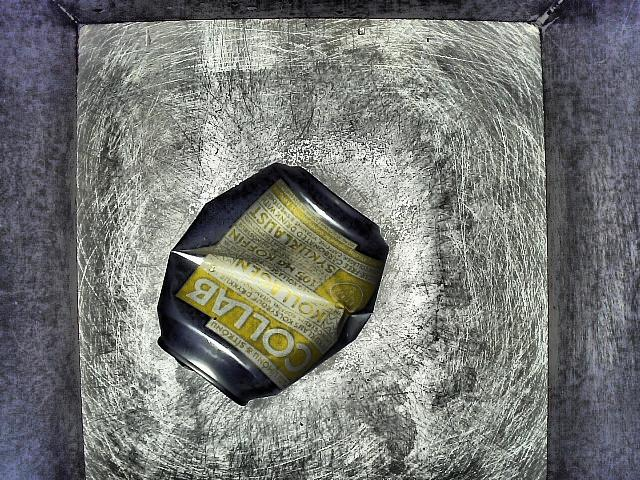Bottles: (146, 153, 405, 411)
